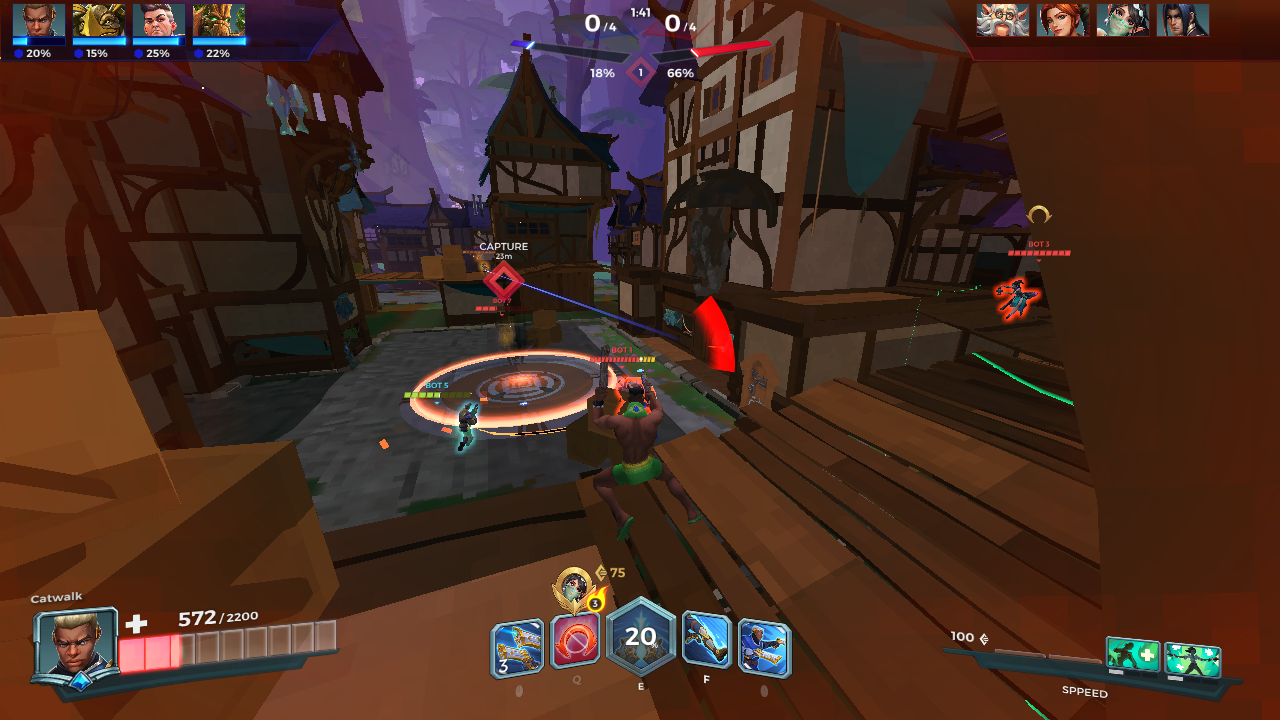model: (998, 274, 1041, 331)
